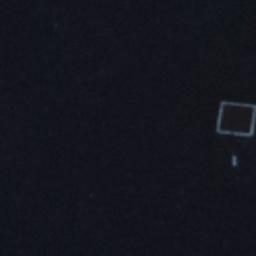square_solid: (213, 97, 256, 141)
